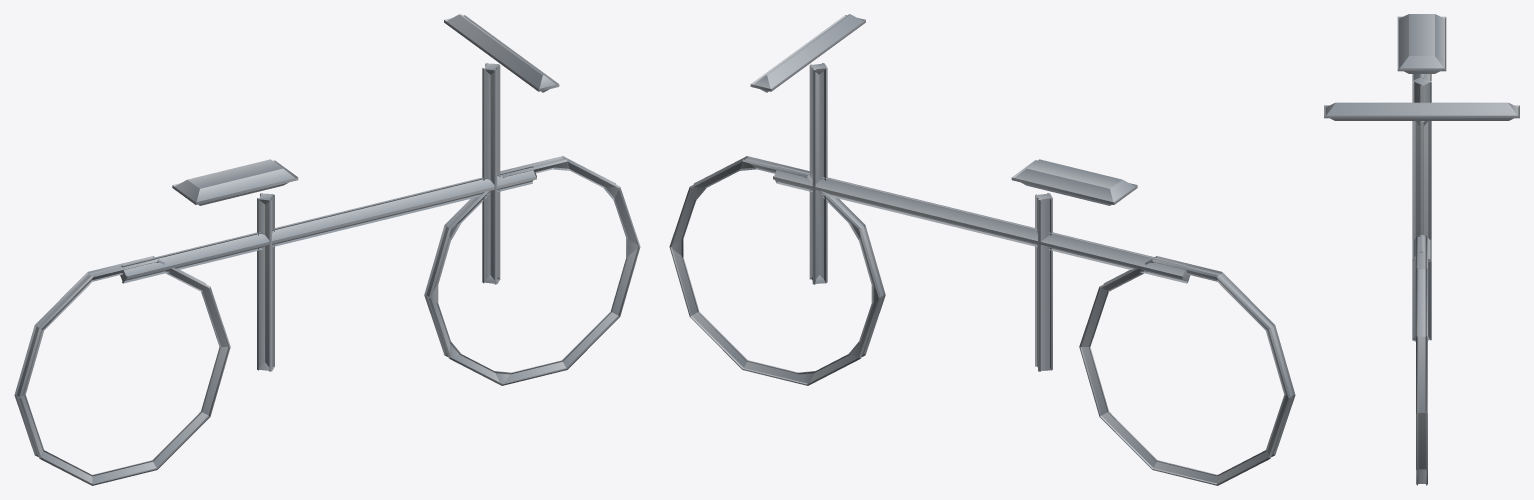
The model's file is dt_bicycle.fbx.
The picture shows the model from 3 angles, left to right: view 1: azimuth 30°, elevation 25°; view 2: azimuth 150°, elevation 25°; view 3: azimuth 270°, elevation 25°; orthographic projection. The views are drawn at different scales.
Parts seen in each view (by area): view 1: dt_bicycle; view 2: dt_bicycle; view 3: dt_bicycle.
Boxes of the visible parts, box(x1,y1,x2,y2) form: dt_bicycle: box(14, 14, 640, 485); dt_bicycle: box(669, 14, 1295, 485); dt_bicycle: box(1324, 14, 1519, 485).
Bounding box in the file's own units: 650 × 339 × 171.
